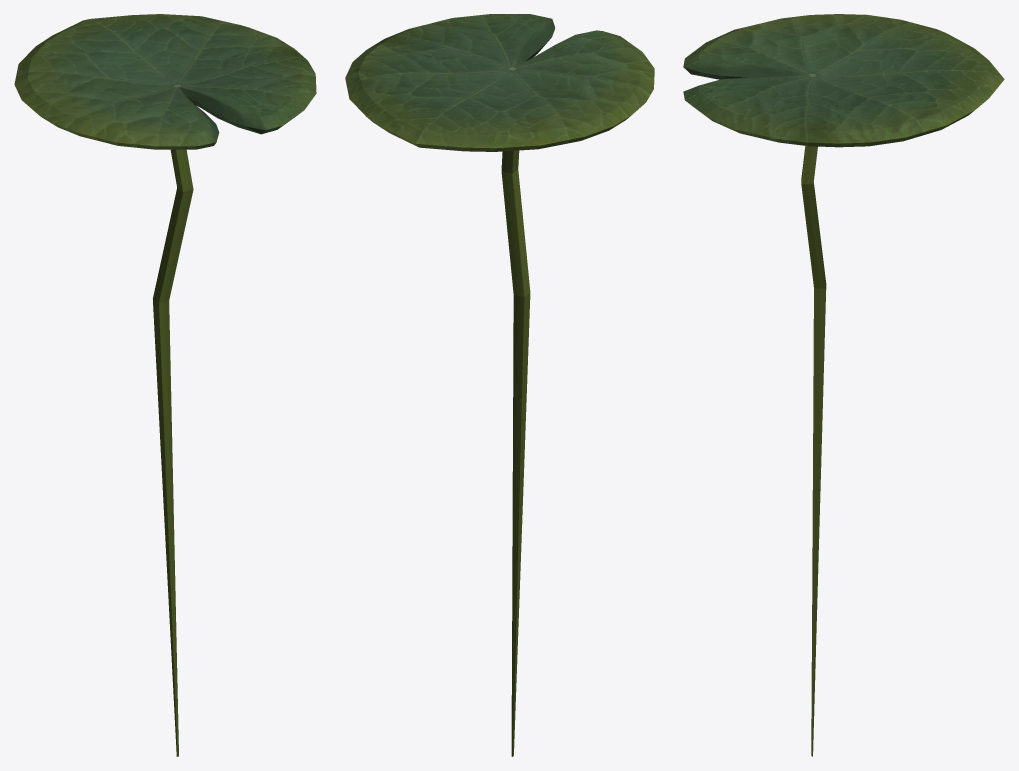
Rendered from lilypad.obj.
The picture shows the model from 3 angles, left to right: view 1: azimuth 30°, elevation 25°; view 2: azimuth 150°, elevation 25°; view 3: azimuth 270°, elevation 25°; orthographic projection. The views are drawn at different scales.
Visible parts, largest first — view 1: pCube1__Mt_Plant_LotusLeafMount_A; view 2: pCube1__Mt_Plant_LotusLeafMount_A; view 3: pCube1__Mt_Plant_LotusLeafMount_A.
Part boxes in pixels (box(x1,y1,x2,y2)): pCube1__Mt_Plant_LotusLeafMount_A: box(14, 14, 316, 756); pCube1__Mt_Plant_LotusLeafMount_A: box(345, 14, 654, 756); pCube1__Mt_Plant_LotusLeafMount_A: box(683, 14, 1004, 756).
Size of the model in its own units: 4.1 by 10.22 by 4.33.
